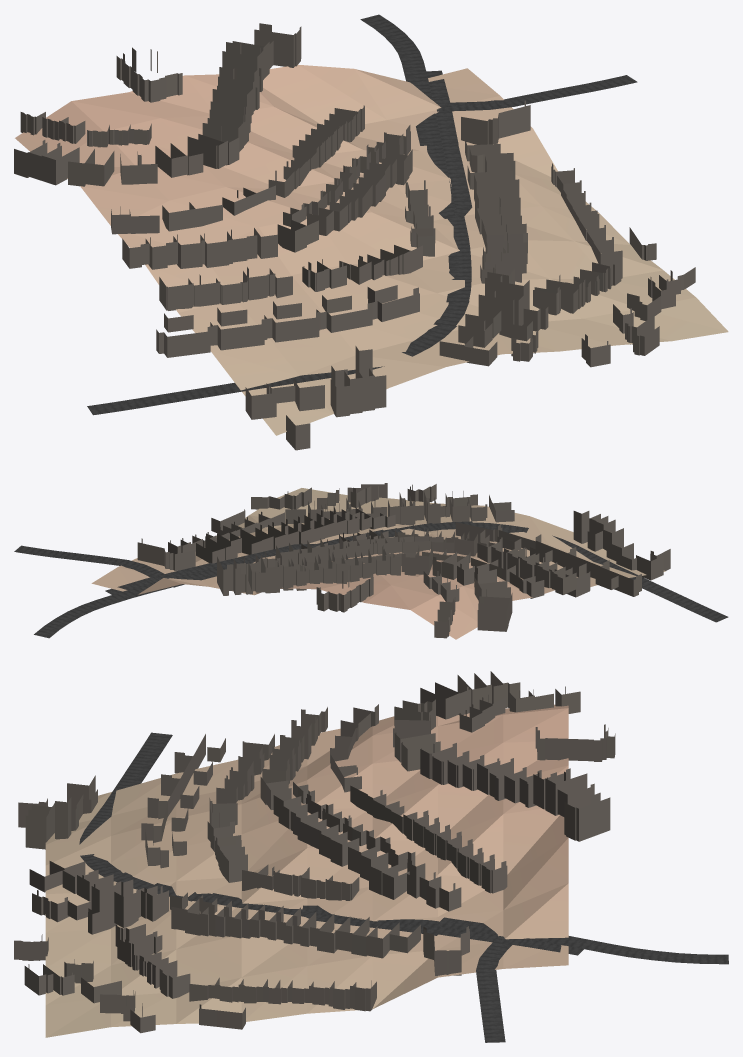
File: tile_26_-14_lod1.gltf
3 views of the same model, one above another, from view 1: azimuth 30°, elevation 25°; view 2: azimuth 150°, elevation 25°; view 3: azimuth 270°, elevation 25° (orthographic). The views are drawn at different scales.
Visible parts, largest first — view 1: Terrain_col, Buildings_col, Roads; view 2: Buildings_col, Terrain_col, Roads; view 3: Terrain_col, Buildings_col, Roads.
Part boxes in pixels (x1,y1,x2,y2): Terrain_col: (15,64,728,435); Buildings_col: (14,23,695,450); Roads: (87,14,637,415); Buildings_col: (137,483,670,638); Terrain_col: (91,488,665,639); Roads: (14,521,728,638); Terrain_col: (45,704,568,1037); Buildings_col: (14,671,615,1033); Roads: (79,732,728,1042).
Size of the model in its own units: 402 by 83.57 by 350.
3 materials, 1 textured.
